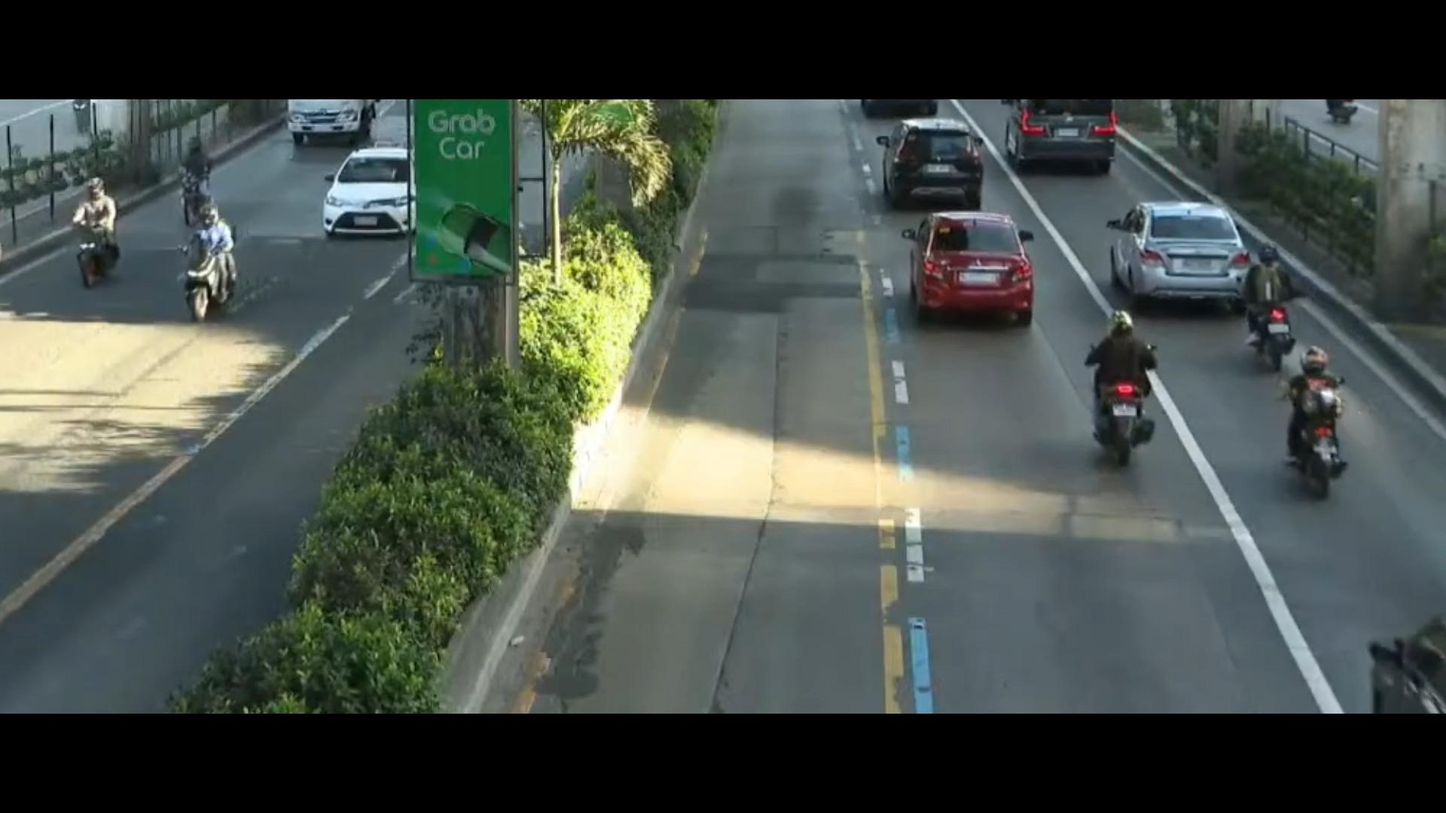Motorcycle: (1078, 287, 1188, 485), (1261, 324, 1354, 513), (45, 159, 144, 332), (167, 191, 259, 338), (1226, 241, 1318, 364), (175, 123, 231, 224)
Sedan: (1095, 186, 1252, 318), (904, 205, 1039, 332), (309, 143, 419, 259), (874, 111, 993, 211)
Van: (1001, 97, 1113, 186)
